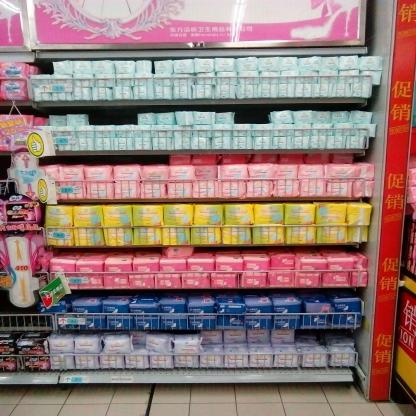Void: (93, 106, 132, 123), (300, 330, 353, 341), (236, 107, 270, 122)
